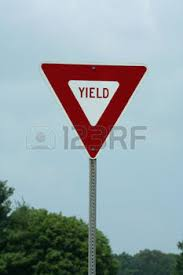stop_sign: (39, 61, 148, 158)
